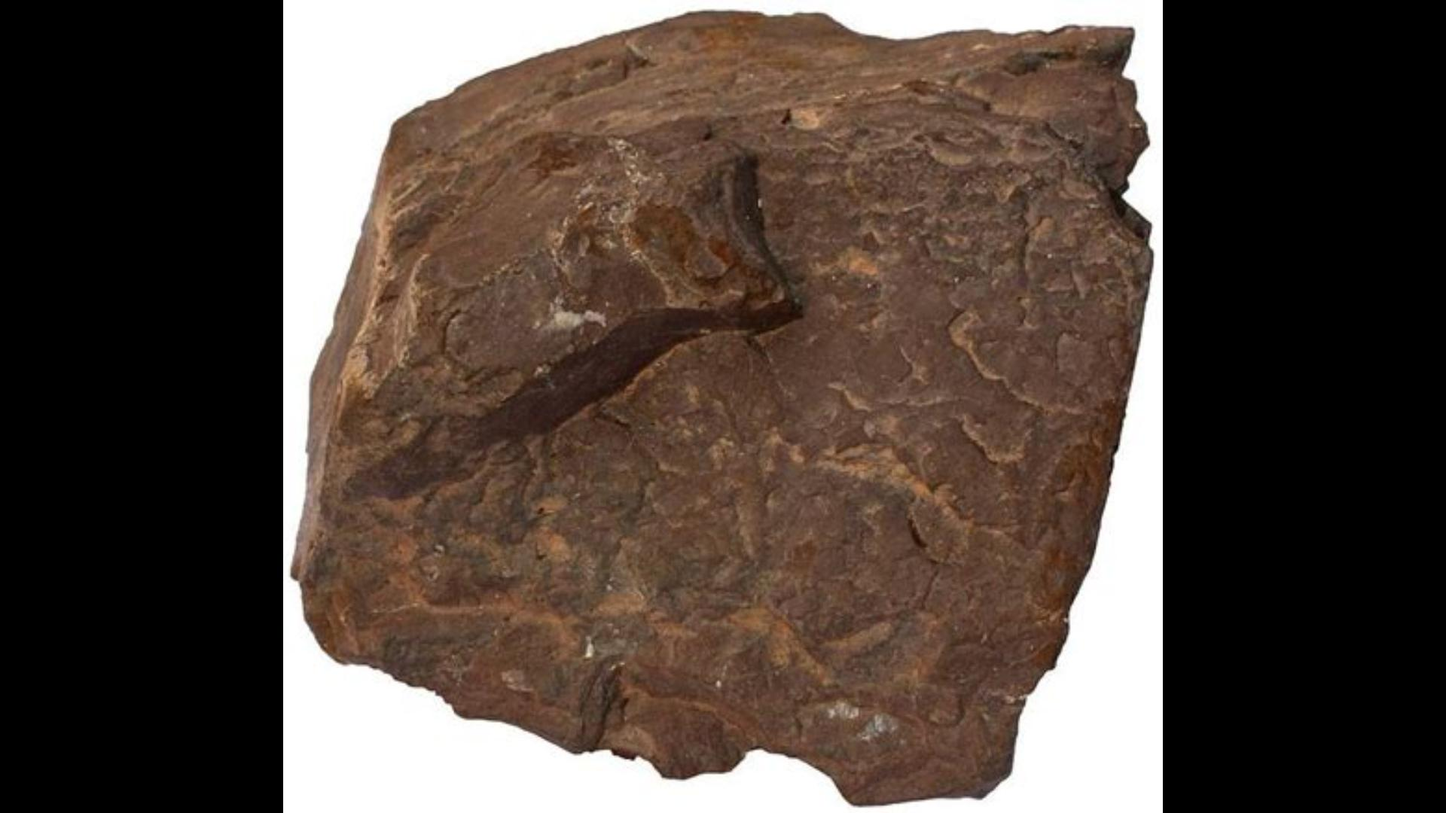rock: (294, 13, 1149, 802)
